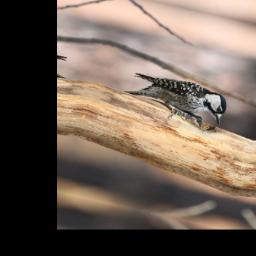Woodpecker: (118, 69, 233, 132)
